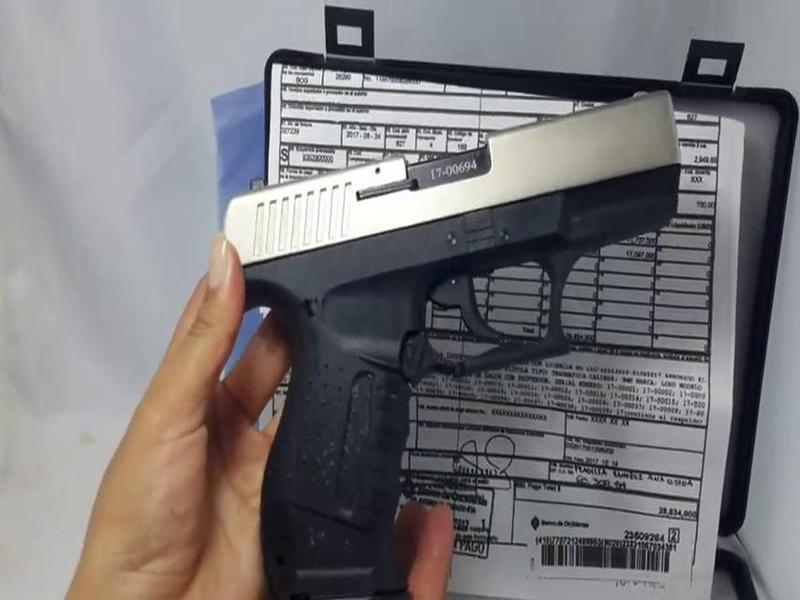Pistola: (233, 81, 686, 600)
